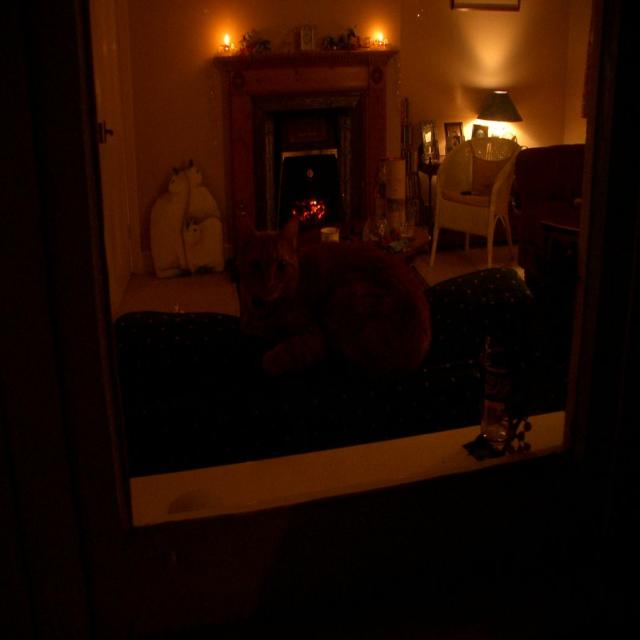Cat: (212, 204, 440, 391), (138, 160, 194, 282), (172, 149, 223, 251), (182, 215, 227, 266)
chair: (503, 135, 610, 276), (424, 125, 523, 271)
